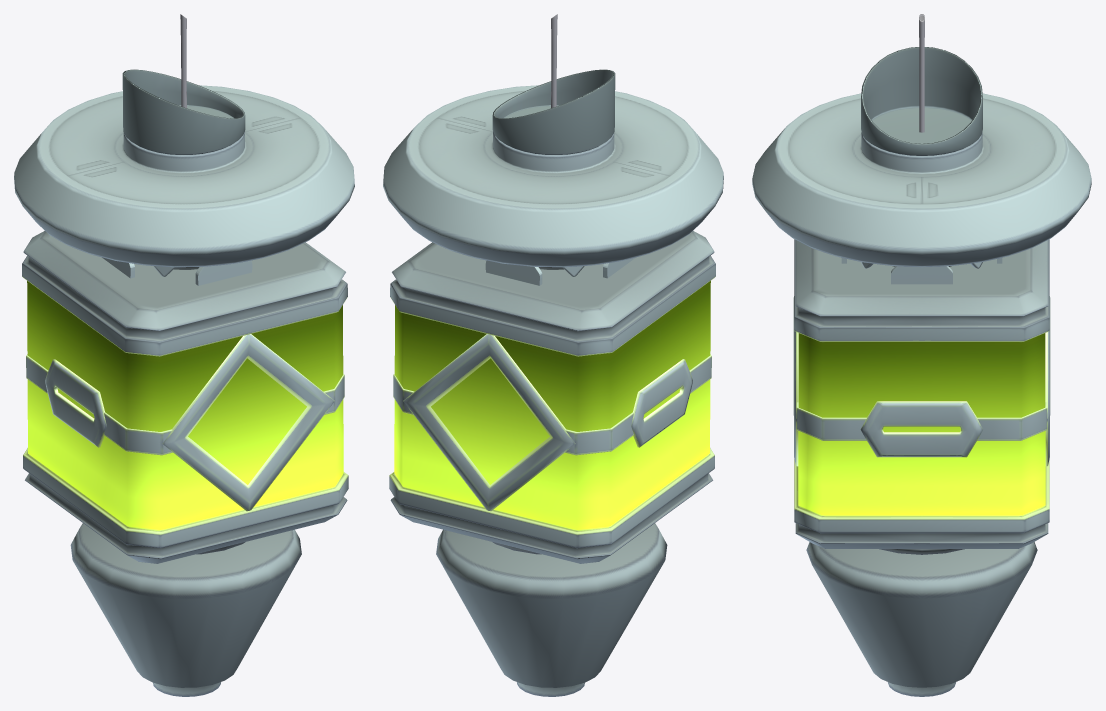
Rendered from take0.glb.
3 views of the same model, side by side, from view 1: azimuth 30°, elevation 25°; view 2: azimuth 150°, elevation 25°; view 3: azimuth 270°, elevation 25° (orthographic).
Visible parts, largest first — view 1: Syringe; view 2: Syringe; view 3: Syringe.
Boxes of the visible parts, x1,y1,x2,y2 form: Syringe: (14, 14, 354, 696); Syringe: (383, 14, 723, 696); Syringe: (752, 14, 1091, 696).
Size of what is drawn, in the model's own units: 0.0232 by 0.0501 by 0.0232.
Materials: 1 (1 with a texture image).
